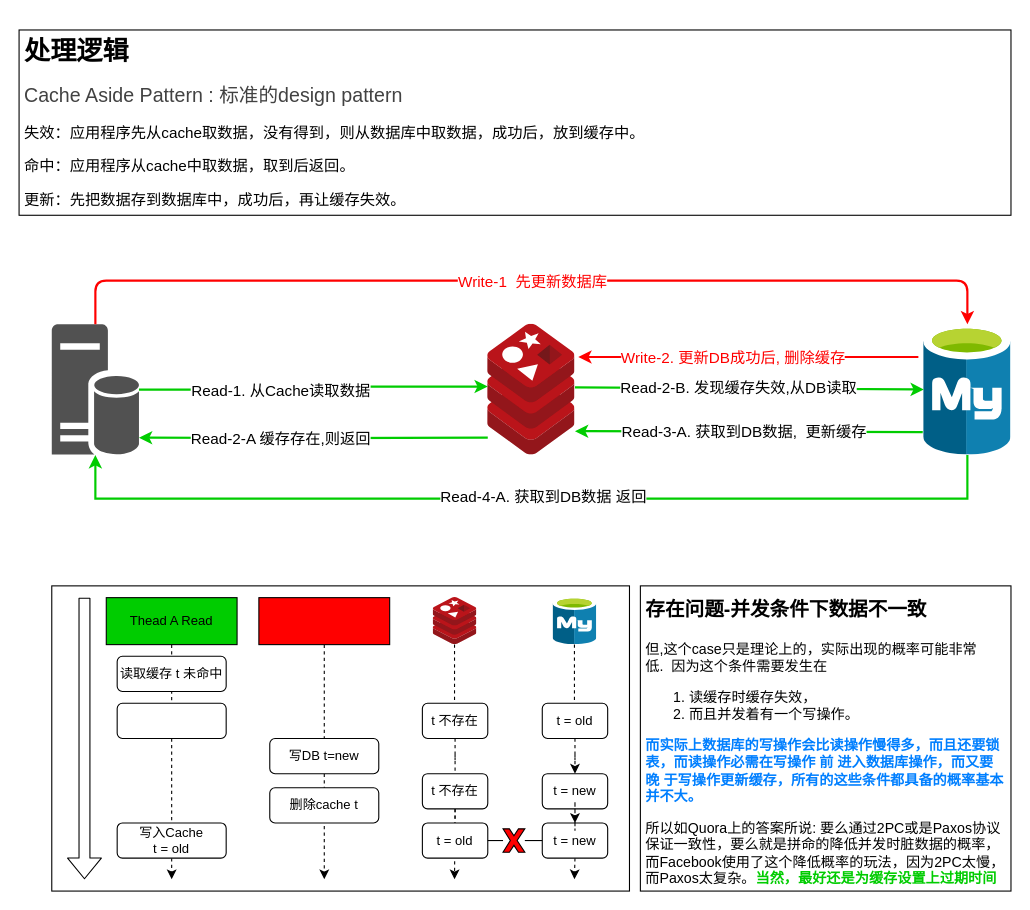
The diagram is 1030 pixels wide and 910 high, and some of its shapes have lost their labels. Each missing label, with the centre of its shape:
Thead B Write: the point at 324,621
读取DB t=old: the point at 171,720
